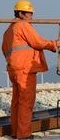boots: (51, 126, 60, 135), (49, 117, 60, 123)
gloves: (51, 39, 60, 52), (54, 57, 60, 68)
hard-hat: (12, 0, 34, 12)
ppe-suit: (0, 19, 57, 139)
